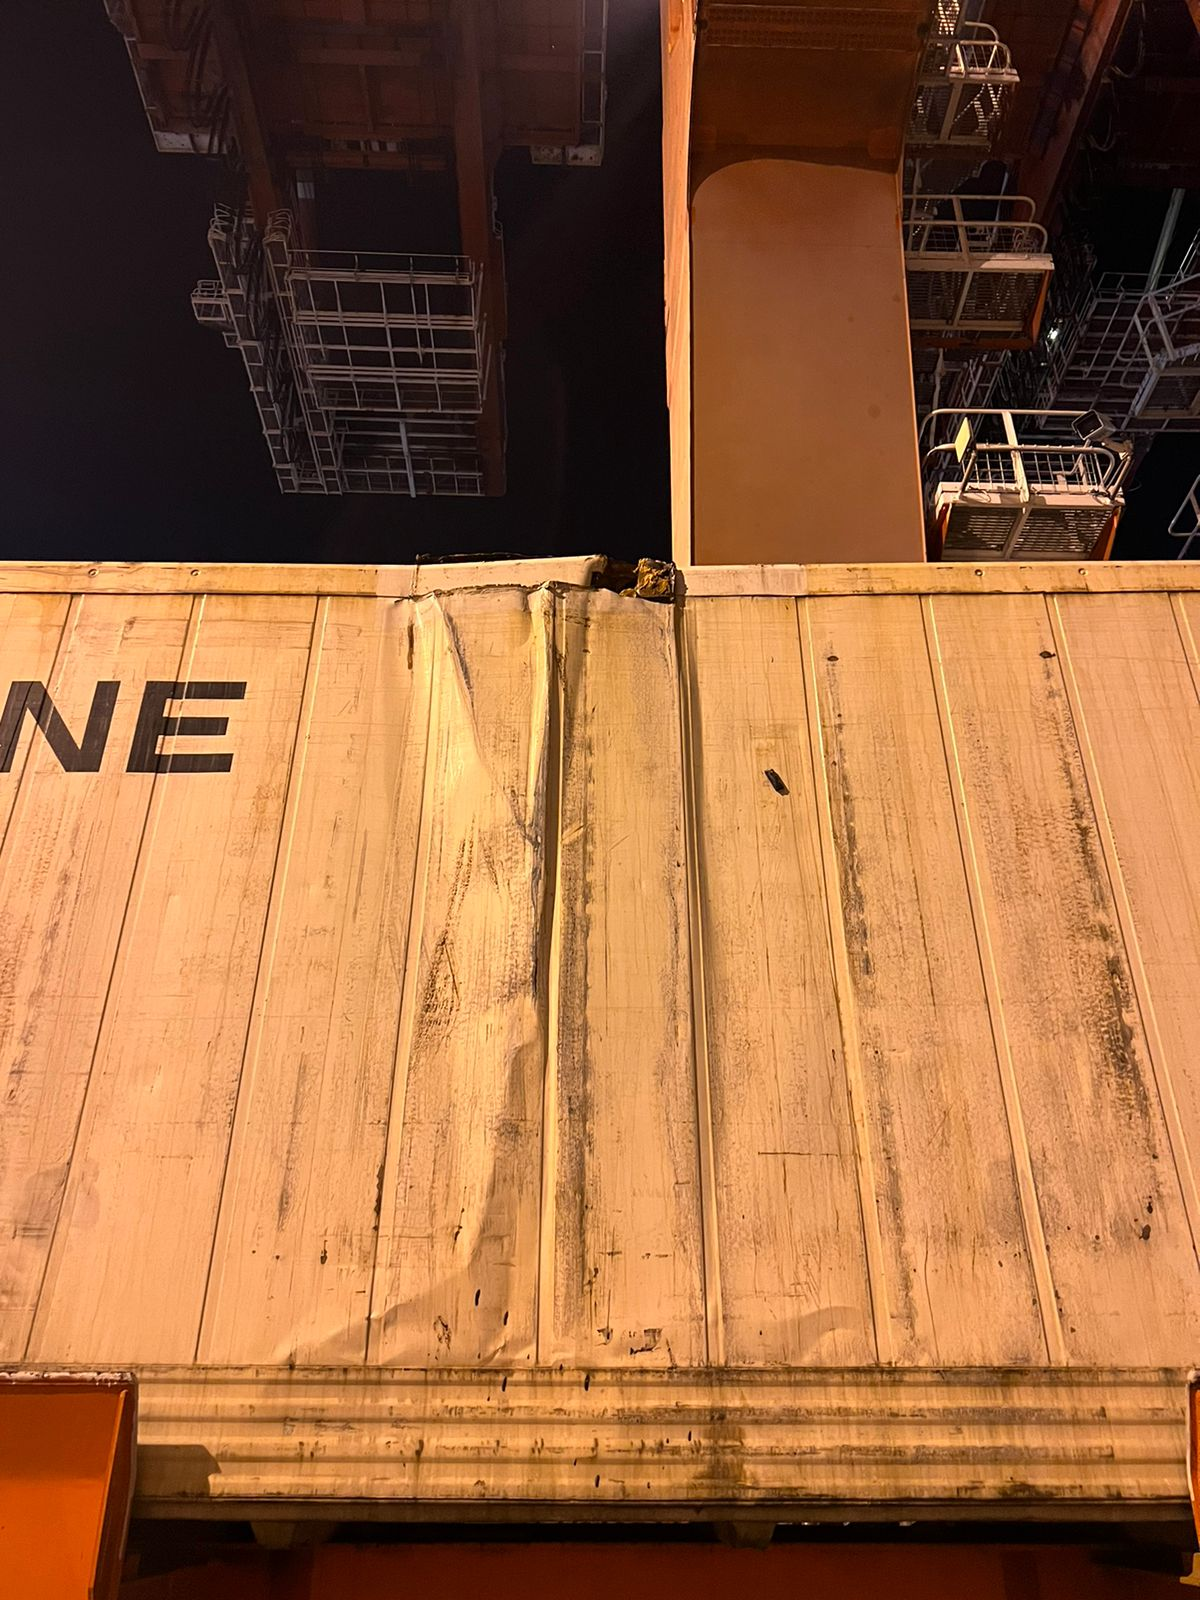moderate: (379, 559, 794, 1369)
